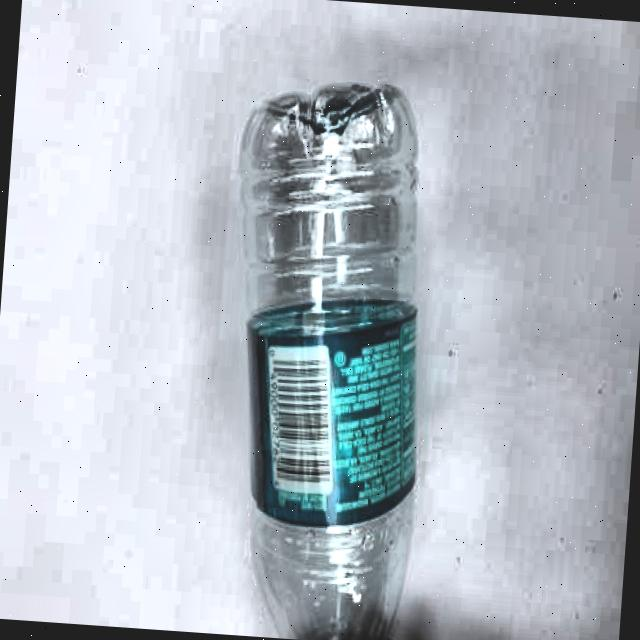plastic: (209, 74, 456, 640)
